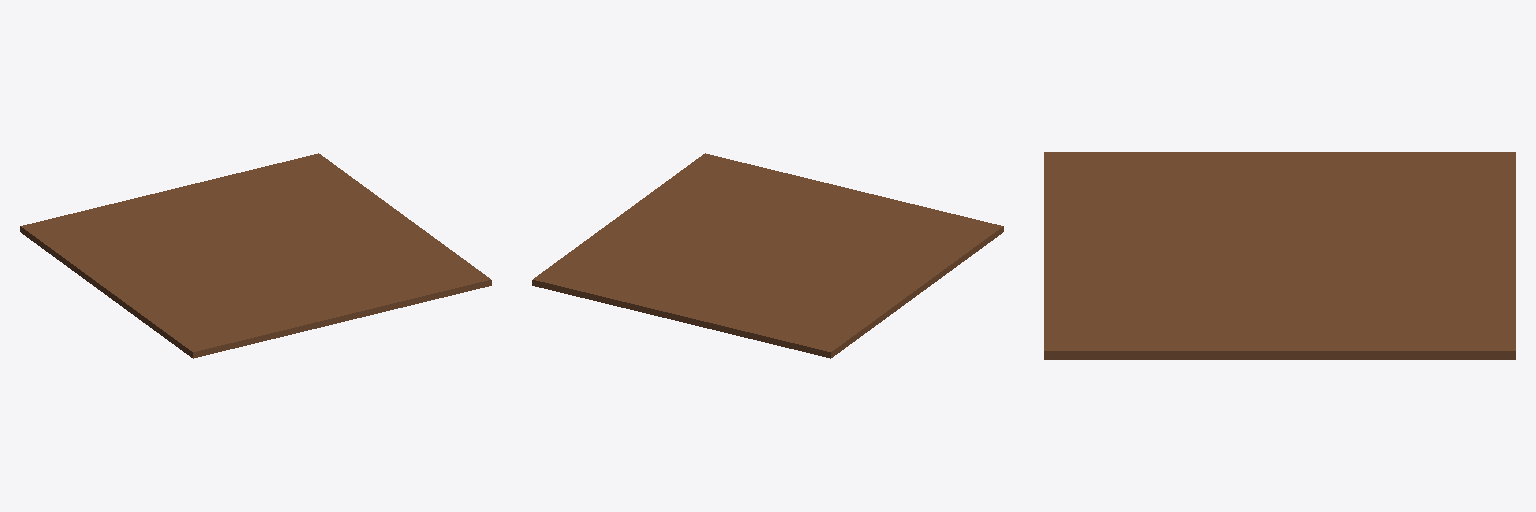
URDF robot description (table):
<?xml version="1.0" ?>
<robot name="table">
    <link name="table_link">
    <contact>
        <lateral_friction value="1"/>
    </contact>
    <inertial>
      <origin rpy="0 0 0" xyz="0 0 0"/>
       <mass value=".0"/>
       <inertia ixx="0" ixy="0" ixz="0" iyy="0" iyz="0" izz="0"/>
    </inertial>
    <visual>
      <origin rpy="0 0 0" xyz="0 0 0"/>
      <geometry>
        <box size="0.5 0.5 0.01"/>
      </geometry>
       <material name="wooden">
        <color rgba="0.52 0.36 0.25 1"/>
      </material>
    </visual>
    <collision>
      <origin rpy="0 0 0" xyz="0 0 0"/>
      <geometry>
        <box size="0.5 0.5 0.01"/>
      </geometry>
    </collision>
  </link>
</robot>

--- What the picture shows (computed from the rendered views, not written in the file) ---
Views: 3 orthographic renders of the robot side by side, from view 1: azimuth 30°, elevation 25°; view 2: azimuth 150°, elevation 25°; view 3: azimuth 270°, elevation 25°.
Model table with 1 links and 0 joints (none), rooted at table_link, posed all joints at 0.
Links seen in each view (by area): view 1: table_link; view 2: table_link; view 3: table_link.
Boxes of the visible links, x1=… form: table_link: x1=20, y1=153, x2=491, y2=358; table_link: x1=532, y1=153, x2=1003, y2=358; table_link: x1=1044, y1=152, x2=1515, y2=359.
Bounding box of the posed robot: 0.5 × 0.5 × 0.01 m (x, y, z).
Geometry: primitives only (box / cylinder / sphere), no mesh files.